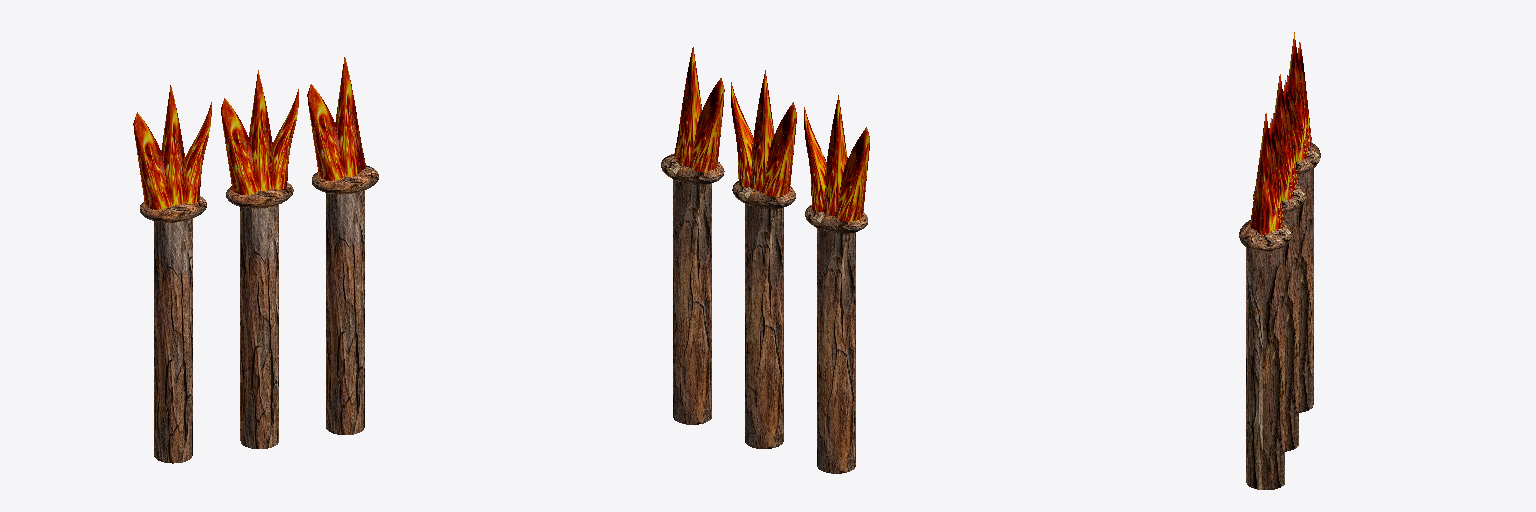
3 views of the same model, side by side, from view 1: azimuth 30°, elevation 25°; view 2: azimuth 150°, elevation 25°; view 3: azimuth 270°, elevation 25° (orthographic).
Visible parts, largest first — view 1: Sphere.002, Sphere.001, Sphere, Cone, Cone.005, Cone.006, Cone.007, Cone.001, Cone.004, Cone.002, Cone.003; view 2: Sphere.002, Sphere.001, Sphere, Cone, Cone.005, Cone.006, Cone.007, Cone.001, Cone.004, Cone.002, Cone.003; view 3: Sphere.002, Sphere, Sphere.001, Cone.007, Cone.004, Cone.001, Cone.002, Cone.003.
Part boxes in pixels (left/top/right/bottom): Sphere.002: left=312, top=165, right=378, bottom=434; Sphere.001: left=226, top=182, right=293, bottom=448; Sphere: left=140, top=196, right=206, bottom=463; Cone: left=133, top=112, right=169, bottom=209; Cone.005: left=221, top=98, right=257, bottom=194; Cone.006: left=307, top=84, right=343, bottom=180; Cone.007: left=335, top=57, right=365, bottom=176; Cone.001: left=161, top=85, right=185, bottom=205; Cone.004: left=249, top=70, right=272, bottom=190; Cone.002: left=184, top=102, right=211, bottom=203; Cone.003: left=271, top=89, right=298, bottom=189; Sphere.002: left=661, top=153, right=724, bottom=424; Sphere.001: left=732, top=181, right=795, bottom=448; Sphere: left=805, top=205, right=867, bottom=473; Cone: left=835, top=127, right=869, bottom=221; Cone.005: left=761, top=102, right=796, bottom=196; Cone.006: left=689, top=78, right=724, bottom=171; Cone.007: left=674, top=47, right=701, bottom=165; Cone.001: left=823, top=95, right=847, bottom=215; Cone.004: left=750, top=70, right=774, bottom=190; Cone.002: left=804, top=107, right=826, bottom=211; Cone.003: left=731, top=82, right=752, bottom=186; Sphere.002: left=1239, top=220, right=1292, bottom=489; Sphere: left=1296, top=143, right=1320, bottom=412; Sphere.001: left=1253, top=182, right=1306, bottom=451; Cone.007: left=1250, top=113, right=1281, bottom=234; Cone.004: left=1274, top=74, right=1295, bottom=189; Cone.001: left=1288, top=32, right=1309, bottom=150; Cone.002: left=1286, top=75, right=1307, bottom=161; Cone.003: left=1272, top=113, right=1293, bottom=200.
Size of the model in its own units: 2.43 by 3.85 by 0.7698.
11 materials, 2 textured.